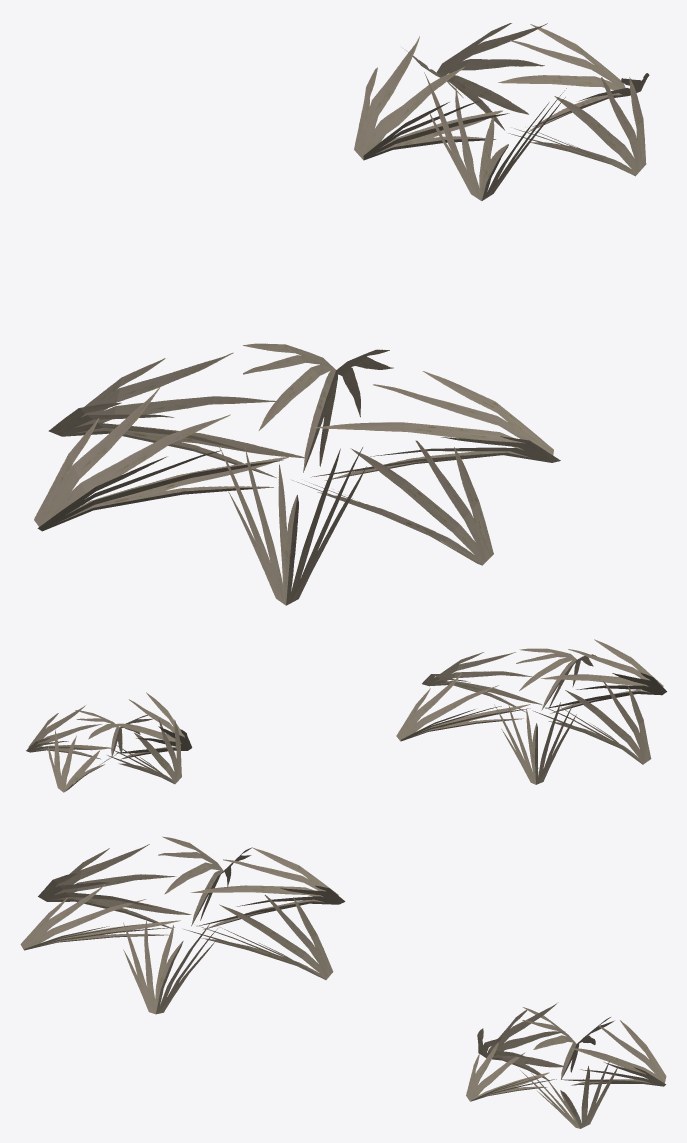
Rendered from yucca_b.glb.
The picture shows the model from 3 angles, top to bottom: view 1: azimuth 30°, elevation 25°; view 2: azimuth 150°, elevation 25°; view 3: azimuth 270°, elevation 25°; orthographic projection. The views are drawn at different scales.
Visible parts, largest first — view 1: geometry_0; view 2: geometry_0; view 3: geometry_0.
Boxes of the visible parts, bbox=[...] form: geometry_0: bbox=[34, 23, 649, 605]; geometry_0: bbox=[26, 639, 666, 792]; geometry_0: bbox=[20, 836, 666, 1128].
Bounding box in the file's own units: 5128 × 600 × 5024.
1 material, 1 textured.
